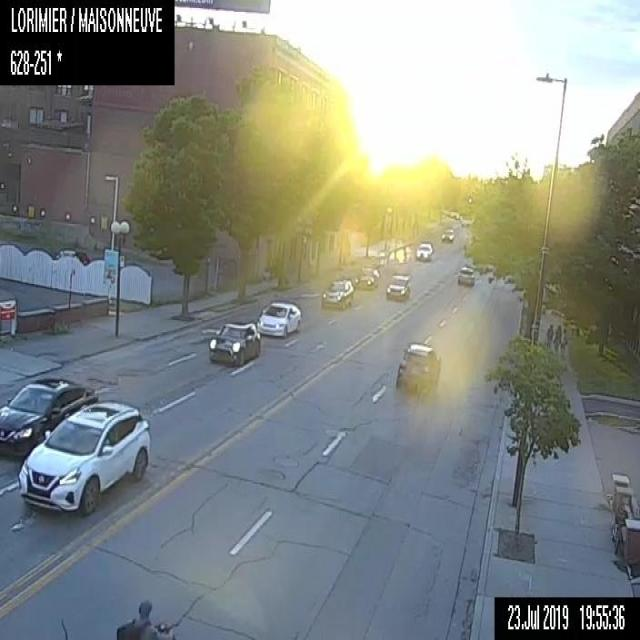pedestrian: (544, 323, 553, 349), (552, 324, 560, 351), (560, 327, 566, 352)
vehicle: (17, 399, 151, 512), (0, 376, 97, 455), (208, 321, 260, 367), (116, 601, 176, 639), (396, 341, 439, 389), (256, 300, 301, 337), (320, 278, 352, 308), (385, 272, 410, 297), (352, 265, 378, 287), (456, 264, 474, 285), (416, 240, 432, 260), (440, 228, 454, 242)
